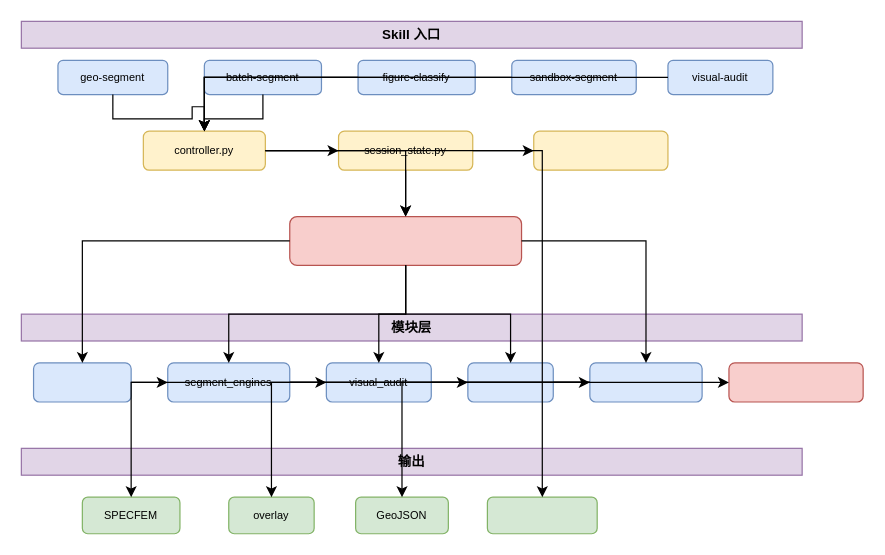
The diagram is 885 pixels wide and 555 high, and some of its shapes have lost their labels. The centre of each missing label's shape, as x and y in pixels:
"3d_schematic (实验)" goes at pixel 795 382.
"batch_processor.py" goes at pixel 600 150.
"cv_detect" goes at pixel 81 382.
"editor" goes at pixel 510 382.
"pipeline_interfaces.py" goes at pixel 405 240.
"post_process" goes at pixel 645 382.
"持久化状态" goes at pixel 541 515.
